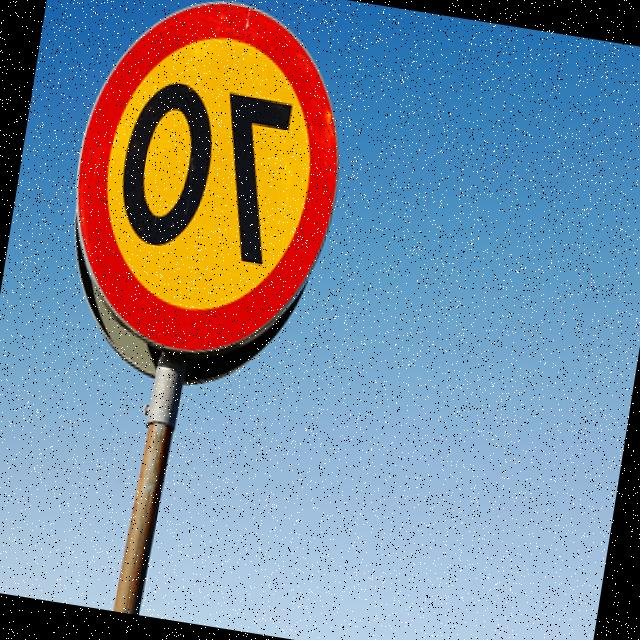speed_limit_70: (44, 0, 366, 371)
